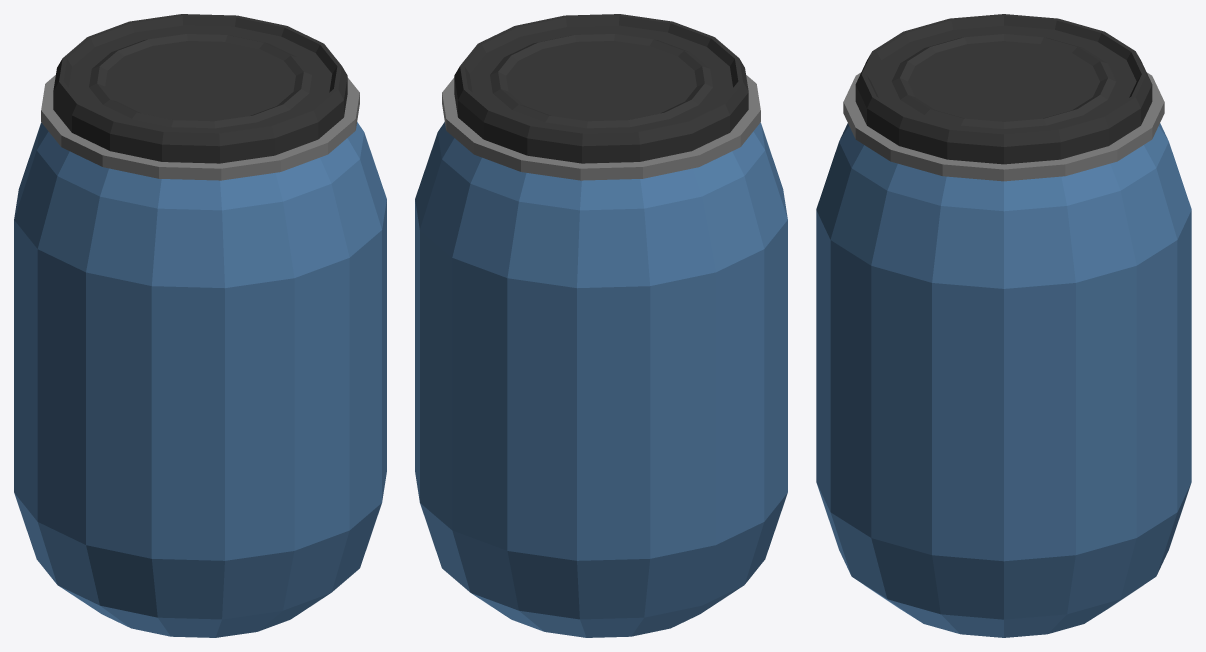
File: FoodBarrel.fbx
The picture shows the model from 3 angles, left to right: view 1: azimuth 30°, elevation 25°; view 2: azimuth 150°, elevation 25°; view 3: azimuth 270°, elevation 25°; orthographic projection.
Parts seen in each view (by area): view 1: Cylinder.001; view 2: Cylinder.001; view 3: Cylinder.001.
Part boxes in pixels (left/top/right/bottom): Cylinder.001: left=14, top=14, right=386, bottom=637; Cylinder.001: left=415, top=14, right=787, bottom=637; Cylinder.001: left=816, top=14, right=1191, bottom=637.
Size of the model in its own units: 200 by 303 by 200.
